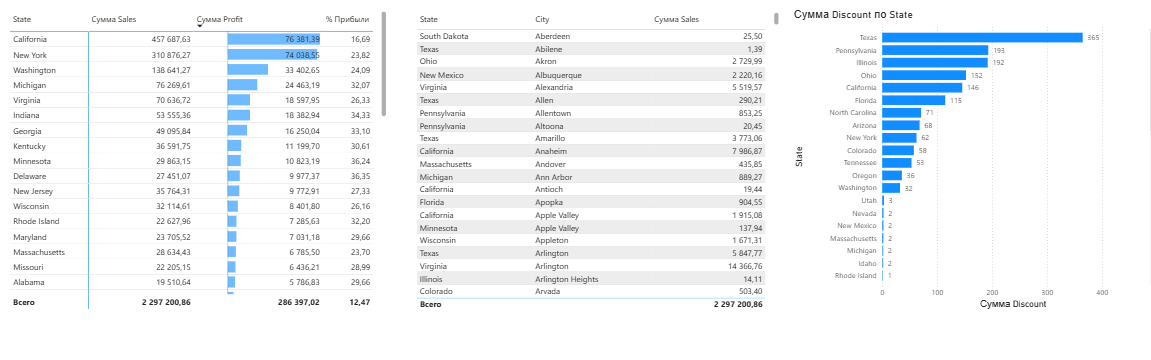

What the dashboard file says about the page in this screenshot:
{"tool":"powerbi","page":{"name":"Страница 2","canvas":[1920,1080],"ordinal":1},"visuals":[{"type":"pieChart","fields":{"Category":["Sample - Superstore.Category"],"Y":["DAX.% Прибыли"]},"box":[638.1,2.1,613.4,450.8],"z":0},{"type":"pieChart","fields":{"Category":["Sample - Superstore.Region"],"Y":["Sum(Sample - Superstore.Sales)"]},"box":[1251.5,0,603.1,450.8],"z":1000},{"type":"pieChart","fields":{"Category":["Sample - Superstore.Category"],"Y":["Sum(Sample - Superstore.Sales)"]},"box":[24.7,2.1,613.4,450.8],"z":2000},{"type":"pivotTable","fields":{"Values":["Sum(Sample - Superstore.Sales)","Sum(Sample - Superstore.Profit)","DAX.% Прибыли"],"Rows":["Sample - Superstore.State"]},"box":[24.7,463.1,629.8,500.2],"z":3000},{"type":"tableEx","fields":{"Values":["Sample - Superstore.State","Sample - Superstore.City","Sum(Sample - Superstore.Sales)"]},"box":[693.7,465.2,607.2,500.2],"z":4000},{"type":"barChart","fields":{"Y":["Sum(Sample - Superstore.Discount)"],"Category":["Sample - Superstore.State"]},"box":[1315.3,463.1,605.1,500.2],"z":5000}]}

Visuals, with their boxes on the page's 1920x1080 design canvas (x1, y1, x2, y2). These are canvas units, not pixel positions in the 1151x360 screenshot, which may show the page scaled, cropped or inside an application window:
pieChart - Sample - Superstore.Category x DAX.% Прибыли: region(638, 2, 1252, 453)
pieChart - Sample - Superstore.Region x Sum(Sample - Superstore.Sales): region(1252, 0, 1855, 451)
pieChart - Sample - Superstore.Category x Sum(Sample - Superstore.Sales): region(25, 2, 638, 453)
pivotTable - Sum(Sample - Superstore.Sales) x Sum(Sample - Superstore.Profit): region(25, 463, 654, 963)
tableEx - Sample - Superstore.State x Sample - Superstore.City: region(694, 465, 1301, 965)
barChart - Sum(Sample - Superstore.Discount) x Sample - Superstore.State: region(1315, 463, 1920, 963)
